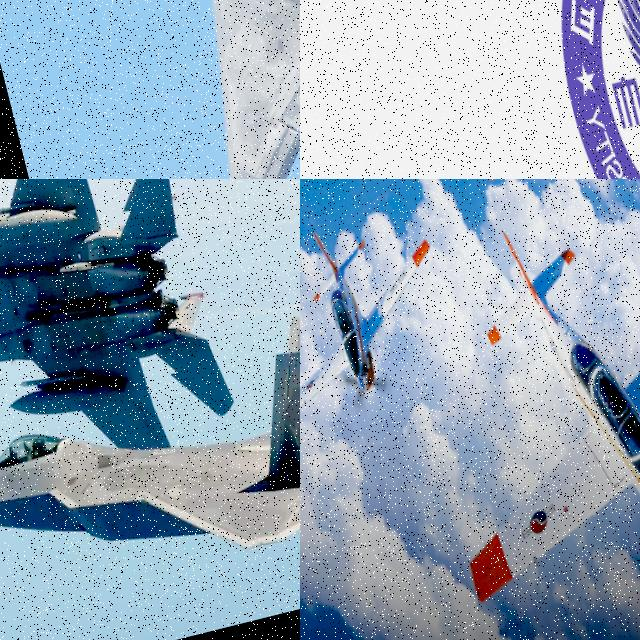F22: (0, 289, 300, 627), (0, 179, 245, 534), (38, 0, 300, 179)
KAU_Marker: (513, 0, 640, 179)
KT-1: (388, 179, 640, 640), (300, 211, 469, 438)
